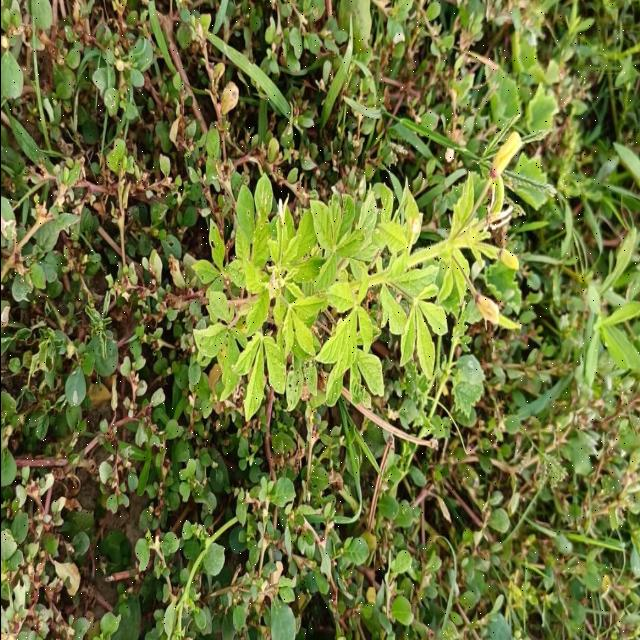weed: (192, 133, 521, 421)
